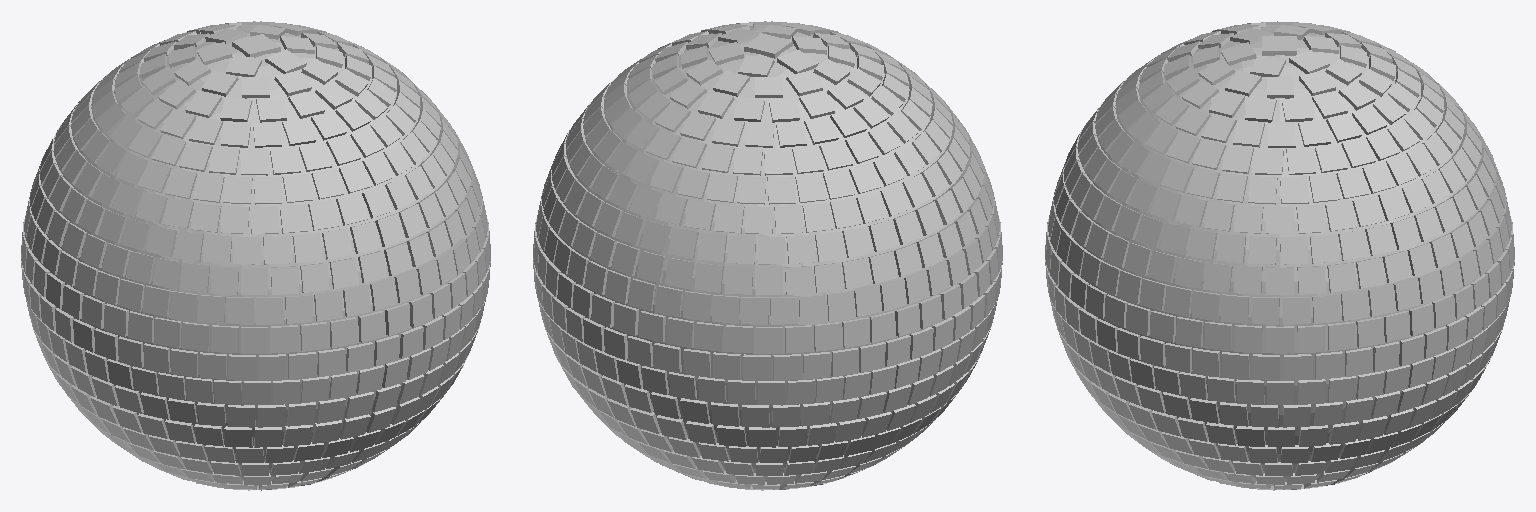
File: discoball2.obj
3 views of the same model, side by side, from view 1: azimuth 30°, elevation 25°; view 2: azimuth 150°, elevation 25°; view 3: azimuth 270°, elevation 25° (orthographic).
Parts seen in each view (by area): view 1: Discosphere_Untitled; view 2: Discosphere_Untitled; view 3: Discosphere_Untitled.
Part boxes in pixels (left/top/right/bottom): Discosphere_Untitled: left=21, top=21, right=490, bottom=490; Discosphere_Untitled: left=533, top=21, right=1002, bottom=490; Discosphere_Untitled: left=1045, top=21, right=1514, bottom=490.
Size of the model in its own units: 36.47 by 36.31 by 36.47.